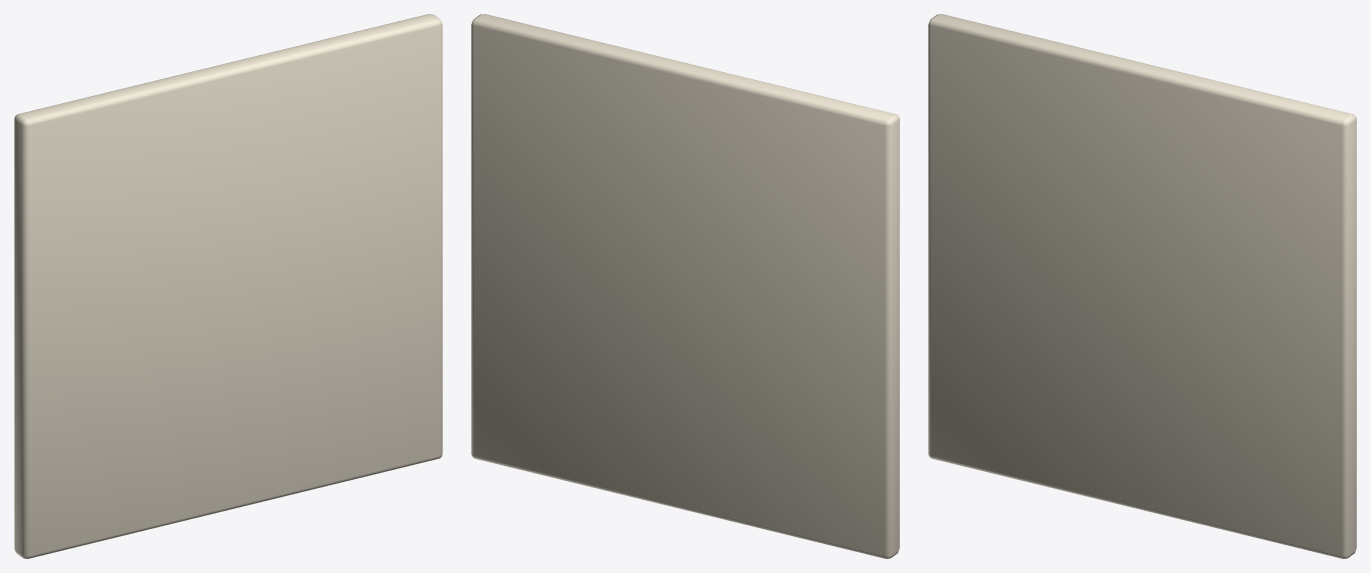
File: build_floor_tile.glb
3 views of the same model, side by side, from view 1: azimuth 30°, elevation 25°; view 2: azimuth 150°, elevation 25°; view 3: azimuth 330°, elevation 25° (orthographic).
Visible parts, largest first — view 1: Floor; view 2: Floor; view 3: Floor.
Part boxes in pixels (left/top/right/bottom): Floor: left=14, top=14, right=442, bottom=558; Floor: left=471, top=14, right=899, bottom=558; Floor: left=928, top=14, right=1356, bottom=558.
Size of the model in its own units: 2.4 by 2.4 by 0.12.
